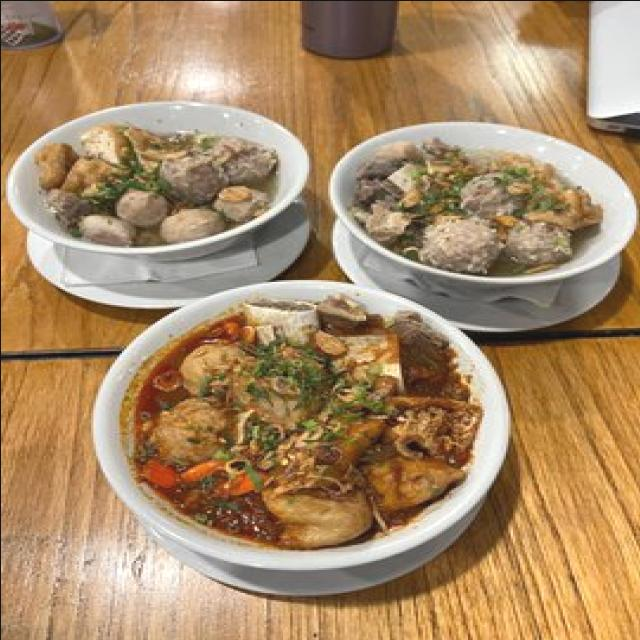bakso: (116, 284, 507, 588), (14, 103, 306, 261), (332, 123, 604, 283)
